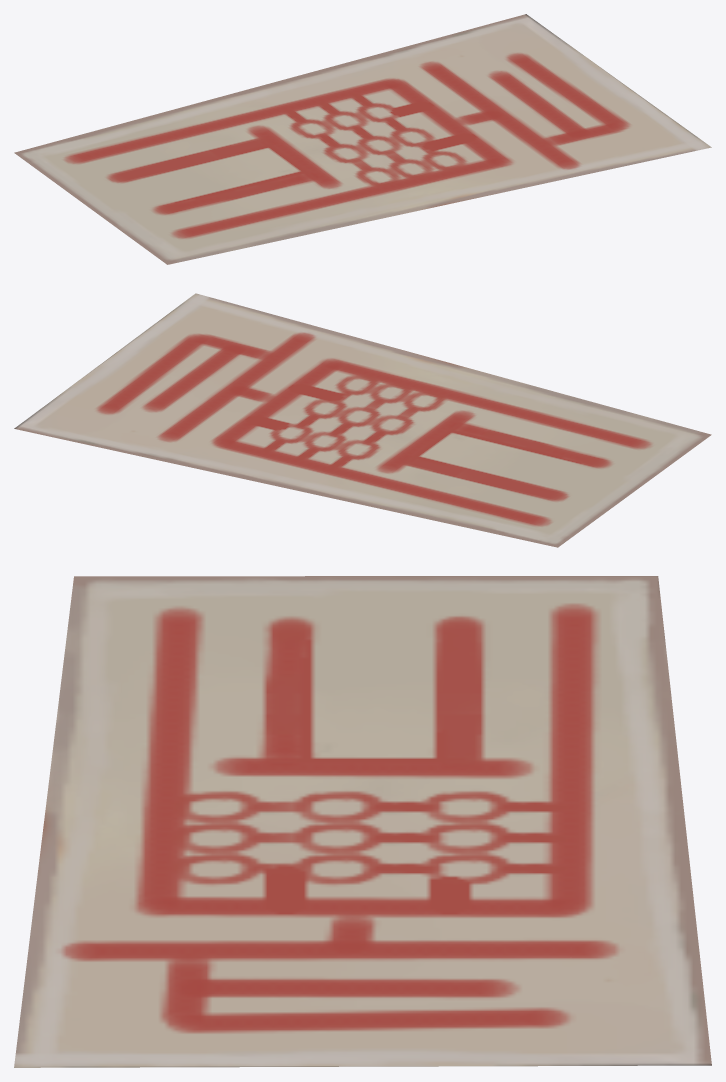
The model's file is Fx_FuWen_01.fbx.
The picture shows the model from 3 angles, top to bottom: view 1: azimuth 30°, elevation 25°; view 2: azimuth 150°, elevation 25°; view 3: azimuth 270°, elevation 25°; orthographic projection. The views are drawn at different scales.
Parts seen in each view (by area): view 1: Fx_FuWen_01; view 2: Fx_FuWen_01; view 3: Fx_FuWen_01.
Part boxes in pixels (x1,y1,x2,y2): Fx_FuWen_01: (14, 14, 711, 264); Fx_FuWen_01: (14, 293, 711, 547); Fx_FuWen_01: (14, 576, 711, 1067).
Size of the model in its own units: 299 by 1.13e-13 by 179.
